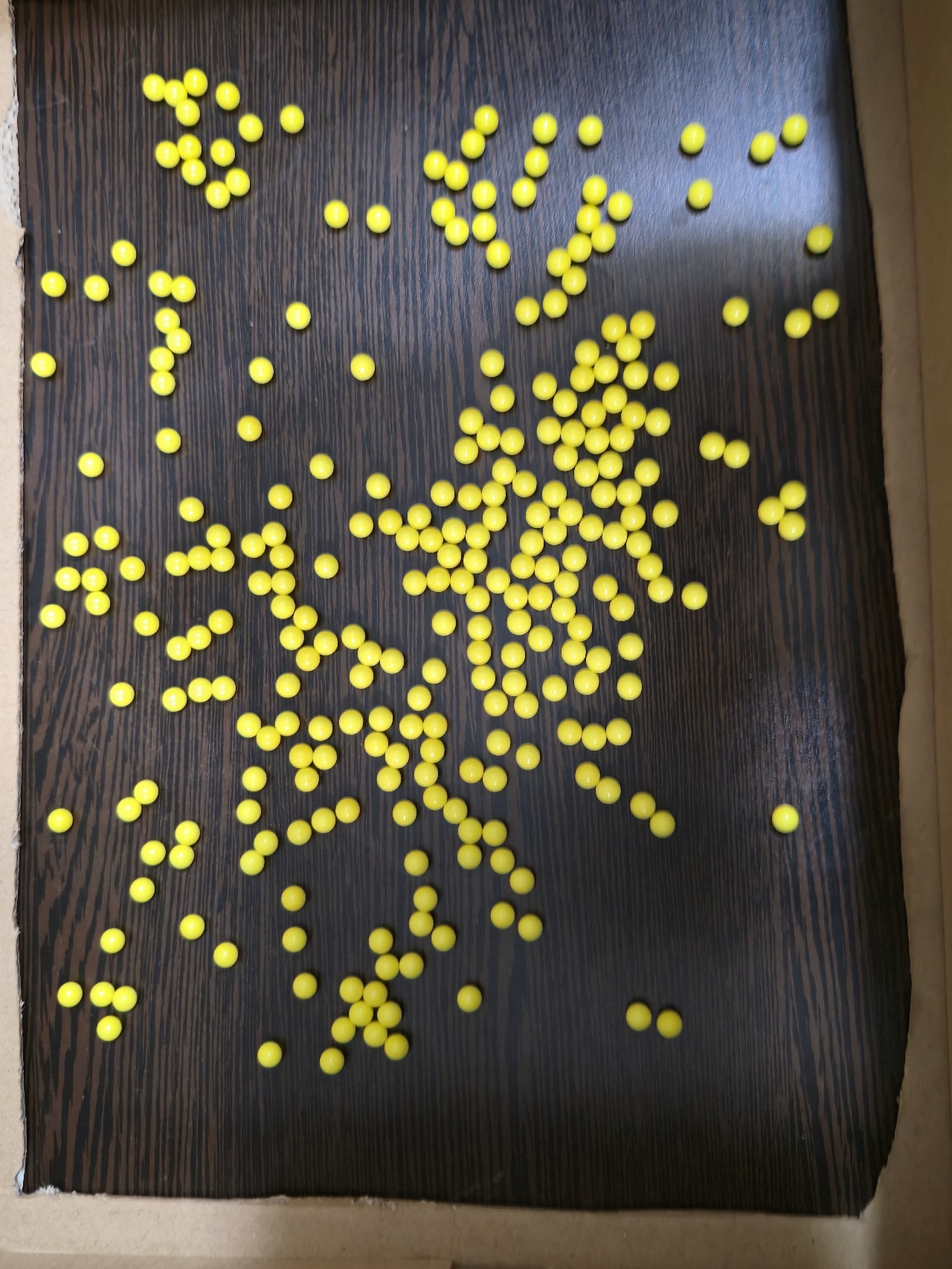yellow_bead: (756, 138, 770, 154), (530, 153, 543, 170), (785, 519, 799, 534), (765, 504, 779, 519), (640, 466, 654, 481), (791, 317, 805, 332), (89, 280, 103, 295), (292, 308, 305, 324), (597, 229, 610, 245), (694, 186, 707, 202), (478, 186, 491, 202), (686, 130, 699, 146), (584, 122, 597, 138), (788, 121, 801, 137), (549, 295, 561, 312), (185, 920, 199, 934), (778, 812, 792, 826), (786, 489, 800, 503), (608, 528, 621, 543), (580, 466, 593, 481), (604, 458, 617, 473), (660, 370, 673, 385), (181, 105, 194, 120), (553, 254, 565, 270), (478, 219, 490, 235), (330, 206, 342, 222), (614, 198, 626, 214), (118, 992, 131, 1006), (219, 948, 232, 962), (181, 826, 194, 840), (612, 725, 625, 739), (114, 688, 128, 701), (623, 680, 636, 694), (580, 675, 593, 689), (592, 653, 605, 667), (534, 632, 547, 646), (509, 590, 522, 604), (654, 583, 667, 597), (560, 577, 573, 591), (632, 538, 645, 552), (659, 507, 672, 521), (730, 448, 743, 462), (496, 391, 509, 405), (155, 376, 169, 389), (155, 353, 168, 367), (819, 298, 832, 312), (154, 277, 167, 291), (117, 246, 130, 260), (521, 698, 533, 713), (585, 521, 597, 536), (598, 487, 610, 502), (498, 464, 510, 479), (460, 443, 472, 458), (506, 434, 518, 449), (567, 426, 579, 441), (559, 396, 571, 411), (600, 362, 612, 377), (486, 356, 498, 371), (730, 304, 742, 319), (161, 147, 173, 162), (245, 120, 257, 135), (286, 111, 298, 126), (106, 934, 119, 947), (122, 803, 135, 816), (242, 719, 255, 732), (548, 682, 561, 695), (567, 646, 580, 659), (533, 592, 546, 605), (125, 562, 138, 575), (247, 539, 260, 552), (548, 488, 561, 501), (559, 452, 572, 465), (161, 434, 174, 447), (651, 417, 664, 430), (608, 394, 621, 407), (629, 370, 642, 383), (622, 343, 635, 356), (161, 314, 174, 327), (47, 278, 60, 291), (211, 189, 224, 202), (231, 177, 244, 190), (216, 145, 229, 158), (135, 884, 149, 896), (588, 731, 600, 745), (193, 684, 207, 696), (508, 676, 520, 690), (625, 640, 637, 654), (492, 574, 504, 588), (541, 562, 553, 576), (568, 552, 580, 566), (526, 536, 538, 550), (532, 508, 544, 522), (623, 486, 635, 500), (707, 440, 719, 454), (616, 432, 628, 446), (483, 431, 495, 445), (543, 424, 555, 438), (465, 414, 477, 428), (538, 380, 550, 394), (255, 363, 267, 377), (36, 359, 50, 371), (568, 275, 580, 289), (492, 248, 504, 262), (573, 242, 585, 256), (263, 1048, 275, 1061), (64, 989, 77, 1001), (246, 856, 258, 869), (147, 846, 159, 859), (399, 807, 411, 820), (242, 806, 255, 818), (139, 786, 152, 798), (489, 773, 501, 786), (248, 773, 260, 786), (582, 770, 594, 783), (319, 751, 331, 764), (492, 736, 504, 749), (345, 716, 357, 729), (217, 682, 229, 695), (282, 679, 294, 692), (428, 665, 440, 678), (386, 655, 398, 668), (172, 642, 184, 655), (573, 623, 586, 635), (438, 617, 450, 630), (689, 590, 701, 603), (599, 582, 611, 595), (212, 530, 225, 542), (448, 524, 460, 537), (518, 478, 530, 491), (315, 460, 327, 473), (591, 435, 603, 448), (172, 334, 184, 347), (490, 696, 501, 710), (414, 510, 425, 524), (464, 490, 475, 504), (176, 285, 190, 296), (588, 181, 599, 195), (148, 81, 159, 95), (419, 894, 431, 906), (260, 837, 272, 849), (293, 827, 305, 839), (449, 805, 461, 817), (637, 800, 649, 812), (602, 785, 614, 797), (301, 774, 313, 786), (383, 774, 395, 786), (420, 769, 432, 781), (315, 723, 327, 735), (281, 718, 293, 730), (375, 713, 387, 725), (507, 649, 519, 661), (320, 637, 332, 649), (286, 632, 298, 644), (347, 631, 359, 643), (513, 617, 525, 629), (277, 601, 289, 613), (517, 560, 529, 572), (216, 554, 228, 566), (193, 552, 205, 564), (443, 550, 455, 562), (268, 528, 280, 540), (274, 491, 286, 503), (488, 488, 500, 500), (372, 480, 384, 492), (576, 373, 588, 385), (54, 815, 67, 826), (522, 751, 533, 764), (263, 732, 274, 745), (564, 726, 575, 739), (457, 575, 468, 588), (644, 563, 657, 574), (472, 530, 483, 543), (356, 519, 367, 532), (565, 507, 576, 520), (243, 422, 254, 435), (627, 410, 638, 423), (637, 318, 647, 332), (814, 231, 824, 245), (68, 538, 83, 547), (524, 922, 535, 934), (497, 855, 508, 867), (463, 851, 475, 862), (489, 827, 500, 839), (318, 815, 329, 827), (466, 765, 477, 777), (391, 750, 402, 762), (371, 739, 382, 751), (429, 720, 440, 732), (414, 692, 425, 704), (356, 670, 367, 682), (473, 648, 485, 659), (193, 632, 205, 643), (474, 622, 485, 634), (299, 613, 311, 624), (617, 603, 628, 615), (472, 594, 483, 606), (409, 577, 420, 589), (254, 577, 265, 589), (171, 558, 182, 570), (425, 535, 436, 547), (489, 513, 501, 524), (375, 935, 385, 948), (465, 825, 475, 838), (356, 359, 369, 369), (538, 127, 551, 137), (169, 86, 178, 100), (633, 1011, 644, 1022), (405, 960, 416, 971), (289, 934, 300, 945), (497, 910, 508, 921), (411, 858, 422, 869), (657, 818, 668, 829), (341, 806, 352, 817), (295, 751, 306, 762), (276, 552, 287, 563), (581, 347, 591, 359), (521, 303, 533, 313), (373, 217, 385, 227), (582, 214, 591, 227), (437, 933, 447, 944), (430, 793, 440, 804), (302, 655, 313, 665), (385, 518, 395, 529), (588, 411, 599, 421), (415, 918, 424, 930), (477, 671, 489, 680), (214, 619, 226, 628), (608, 321, 617, 333), (518, 191, 530, 200), (437, 203, 444, 218), (184, 503, 197, 511), (187, 171, 200, 179), (140, 620, 150, 630), (433, 576, 443, 586), (63, 576, 74, 585), (346, 985, 354, 997), (299, 980, 307, 992), (517, 875, 525, 887), (557, 604, 569, 612), (549, 526, 561, 534), (627, 513, 639, 521), (451, 231, 463, 239), (91, 602, 104, 609), (384, 1012, 394, 1021), (326, 1056, 334, 1067), (338, 1025, 346, 1036), (463, 993, 471, 1004), (405, 720, 416, 728), (437, 487, 448, 495), (467, 139, 475, 150), (364, 648, 376, 655), (451, 167, 457, 181), (50, 615, 60, 623), (321, 560, 332, 567), (86, 464, 97, 471), (431, 162, 438, 173), (382, 962, 388, 974), (469, 556, 481, 562), (288, 893, 294, 904), (175, 857, 186, 863), (402, 533, 413, 539), (222, 91, 227, 103), (277, 576, 284, 584), (355, 1009, 360, 1019), (391, 1047, 399, 1053), (370, 1032, 376, 1040), (426, 745, 432, 752), (95, 578, 100, 585), (664, 1024, 671, 1028), (101, 541, 108, 544), (104, 1032, 110, 1035), (370, 992, 373, 998), (184, 145, 187, 151), (178, 697, 181, 702), (190, 77, 193, 82), (89, 583, 93, 585), (84, 465, 86, 467), (98, 999, 100, 1000), (96, 996, 97, 998), (186, 857, 187, 859), (187, 854, 188, 856), (288, 582, 289, 584), (111, 1033, 112, 1034), (63, 996, 64, 997), (48, 620, 49, 621), (45, 618, 46, 619), (90, 603, 91, 604), (285, 581, 286, 582), (99, 538, 100, 539), (459, 222, 460, 223), (530, 191, 531, 192), (480, 120, 481, 121), (103, 1031, 103, 1032), (115, 1025, 115, 1026), (187, 852, 187, 853), (437, 751, 438, 751), (47, 620, 48, 620), (91, 605, 91, 605), (286, 582, 287, 582), (88, 582, 89, 582), (463, 231, 463, 231), (483, 112, 483, 113), (484, 112, 485, 112), (486, 111, 486, 112)
